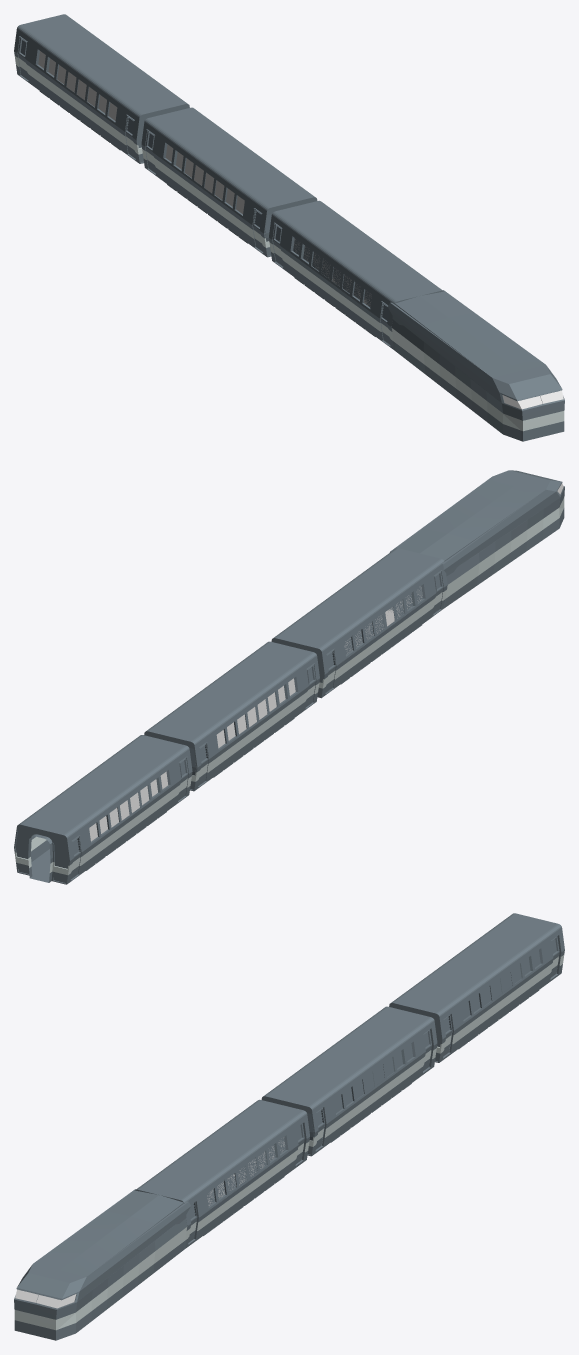
The model's file is Train second try.fbx.
3 renders of one model, top to bottom at view 1: azimuth 30°, elevation 25°; view 2: azimuth 150°, elevation 25°; view 3: azimuth 330°, elevation 25°, orthographic.
Parts seen in each view (by area): view 1: Cube; view 2: Cube; view 3: Cube.
Part boxes in pixels (x1,y1,x2,y2): Cube: (14, 14, 564, 441); Cube: (14, 470, 564, 884); Cube: (14, 913, 564, 1340).
Bounding box in the file's own units: 435 × 361 × 6503.
